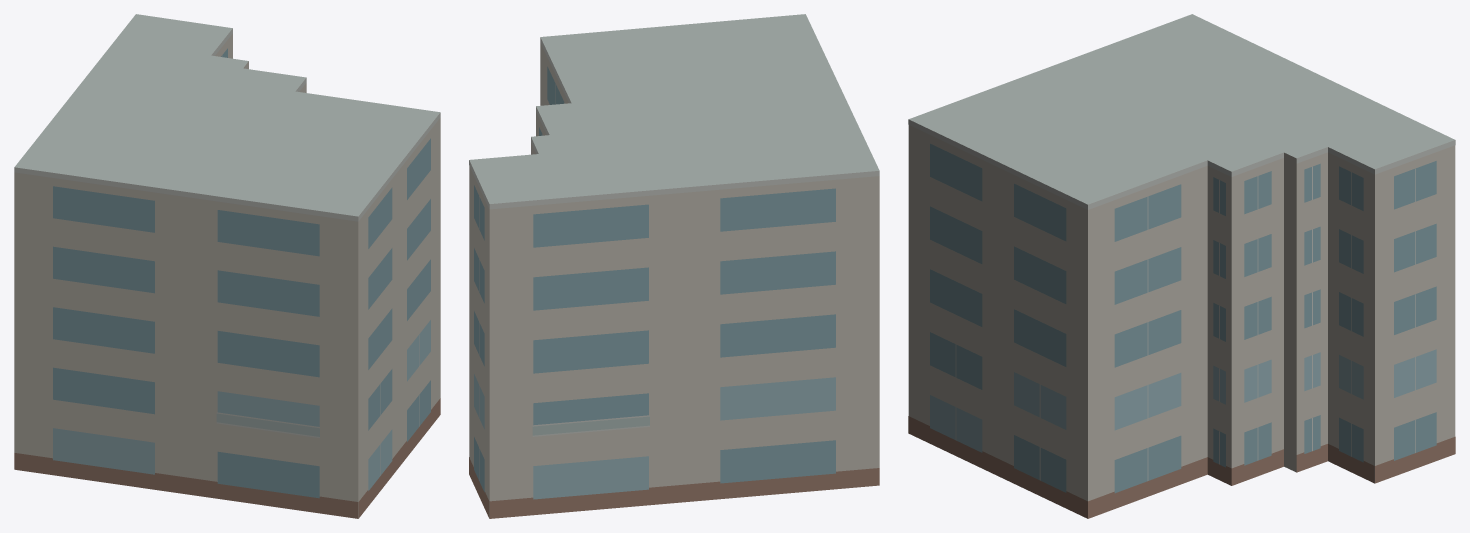
Rendered from survey-upis-32575222.glb.
3 views of the same model, side by side, from view 1: azimuth 30°, elevation 25°; view 2: azimuth 150°, elevation 25°; view 3: azimuth 270°, elevation 25° (orthographic). The views are drawn at different scales.
Parts seen in each view (by area): view 1: survey-upis-32575222.tmp; view 2: survey-upis-32575222.tmp; view 3: survey-upis-32575222.tmp.
Part boxes in pixels (bbox=[...]): survey-upis-32575222.tmp: bbox=[14, 14, 440, 518]; survey-upis-32575222.tmp: bbox=[469, 14, 879, 518]; survey-upis-32575222.tmp: bbox=[908, 14, 1455, 518].
Bounding box in the file's own units: 18.89 × 14.5 × 22.88.
